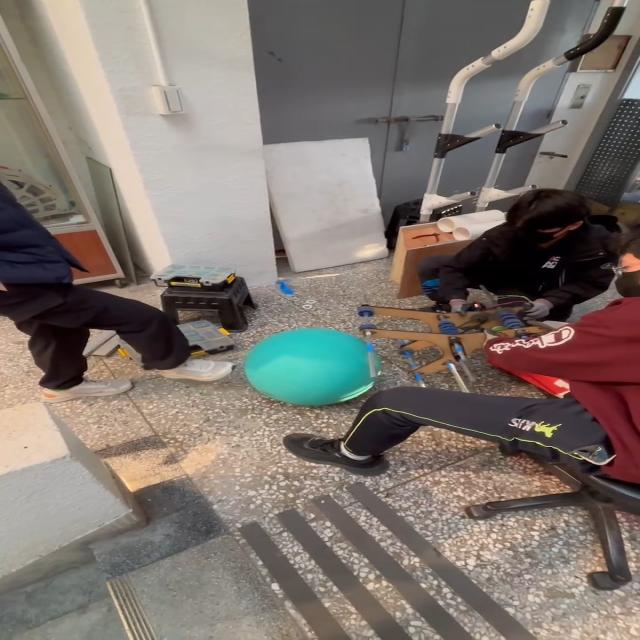ALGAE: (241, 327, 381, 407)
